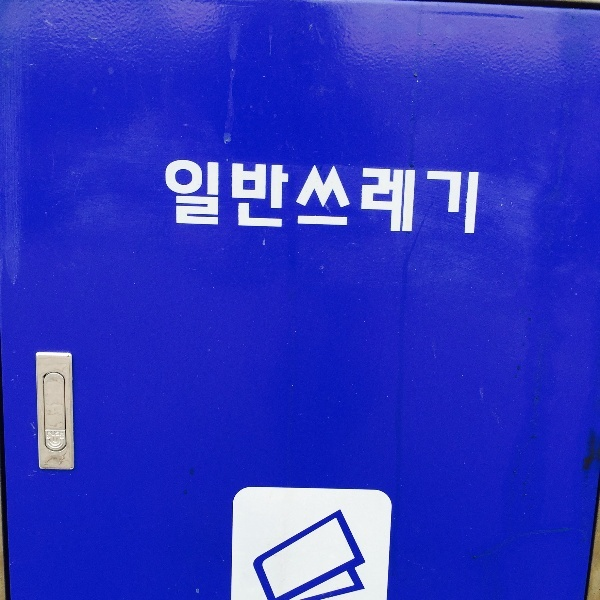text: (177, 156, 192, 244), (193, 156, 208, 244), (209, 156, 224, 244), (225, 156, 240, 244), (241, 156, 256, 244), (257, 156, 272, 244), (273, 156, 288, 244), (289, 156, 304, 244), (305, 156, 320, 244), (321, 156, 336, 244), (337, 156, 352, 244), (353, 156, 368, 244), (369, 156, 384, 244), (385, 156, 400, 244), (401, 156, 416, 244), (417, 156, 432, 244), (433, 156, 448, 244), (449, 156, 464, 244), (465, 156, 480, 244), (162, 156, 176, 244), (481, 156, 483, 244)
